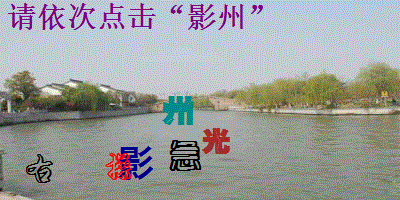text: (115, 145, 154, 180), (161, 94, 195, 128), (169, 139, 202, 173), (200, 126, 232, 157), (25, 153, 55, 184), (105, 152, 132, 180)
